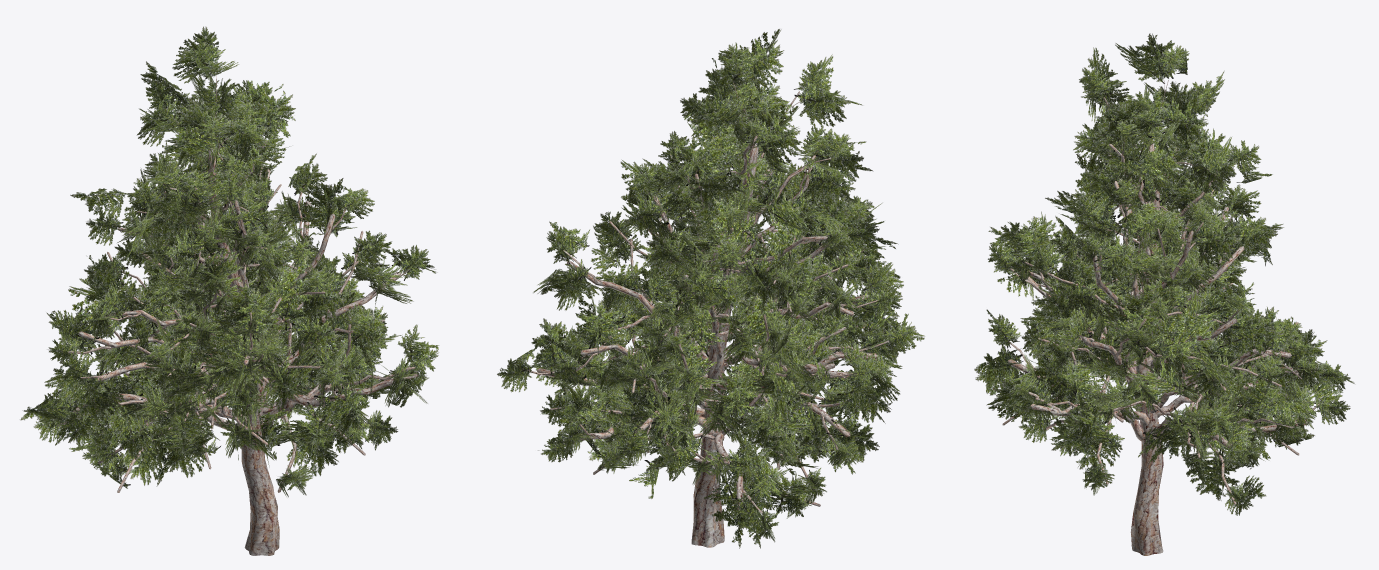
The model's file is quick_treeit_tree.glb.
3 views of the same model, side by side, from view 1: azimuth 30°, elevation 25°; view 2: azimuth 150°, elevation 25°; view 3: azimuth 270°, elevation 25° (orthographic). The views are drawn at different scales.
Parts seen in each view (by area): view 1: aa; view 2: aa; view 3: aa.
Boxes of the visible parts, left/top/right/bottom form: aa: left=20, top=26, right=439, bottom=555; aa: left=497, top=29, right=924, bottom=548; aa: left=974, top=33, right=1354, bottom=555.
Size of the model in its own units: 83.66 by 112 by 81.22.
Materials: 2 (2 with a texture image).
